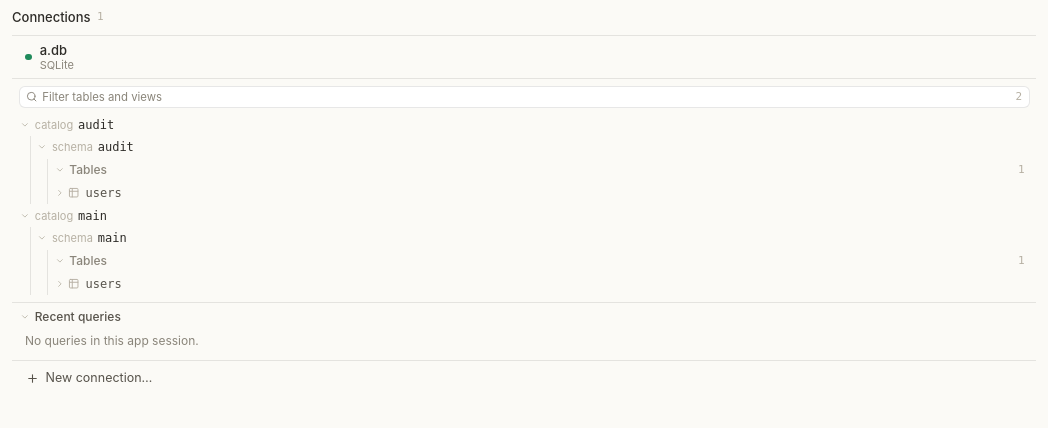
Test case: DatabaseNavContent P3 metadata recovery › keeps duplicate object names keyed and queried by their full reference
This screenshot has width=1048, height=428.
Expected: the button with aria-label "Schema: audit" is shown, [34,136,1031,159]
Expected: the number of buttons "Tables 1" is 2, [51,159,1031,181]; [51,250,1031,272]
Click the 1st button titled "audit.audit.users" at (104, 193), box [68,181,1031,204]
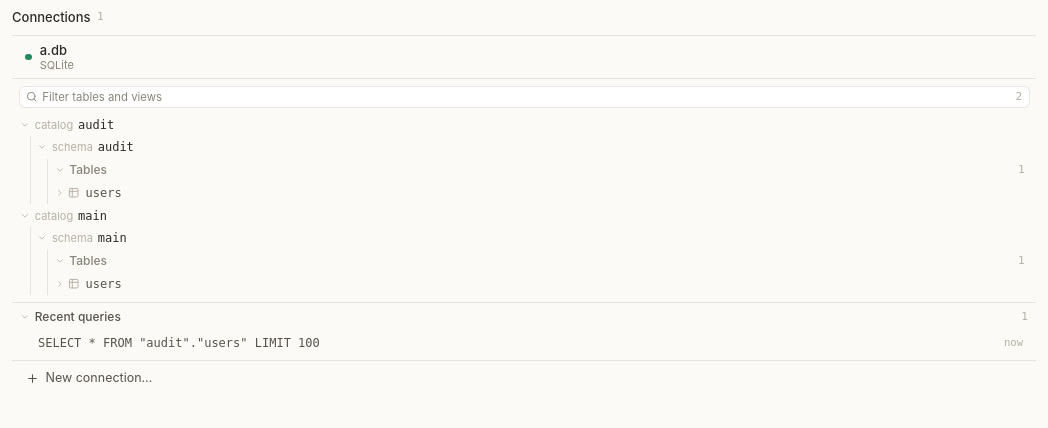
Click the 1st button named "Expand columns for users" at (60, 193), box [51,181,68,204]
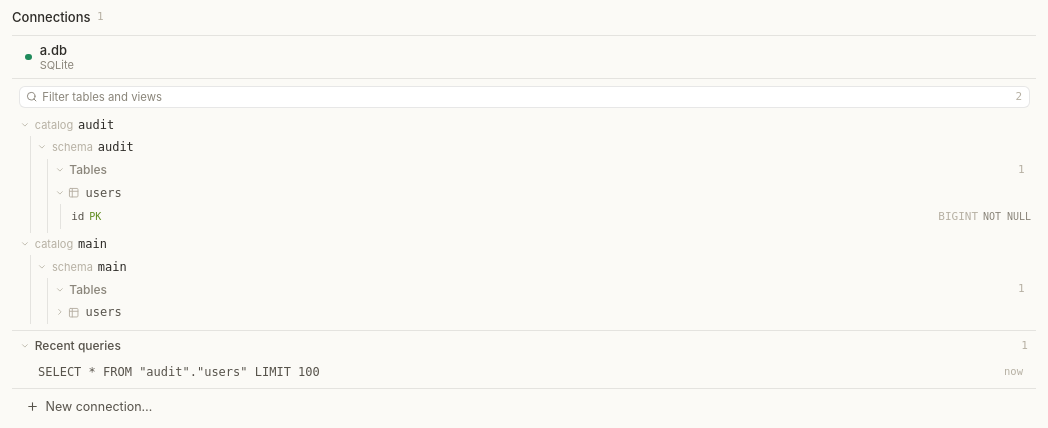
Now the text "id" is shown, box [71,208,84,225]
Now the text "BIGINT" is shown, box [938,208,978,225]
Now the text "NOT NULL" is shown, box [983,209,1031,224]
